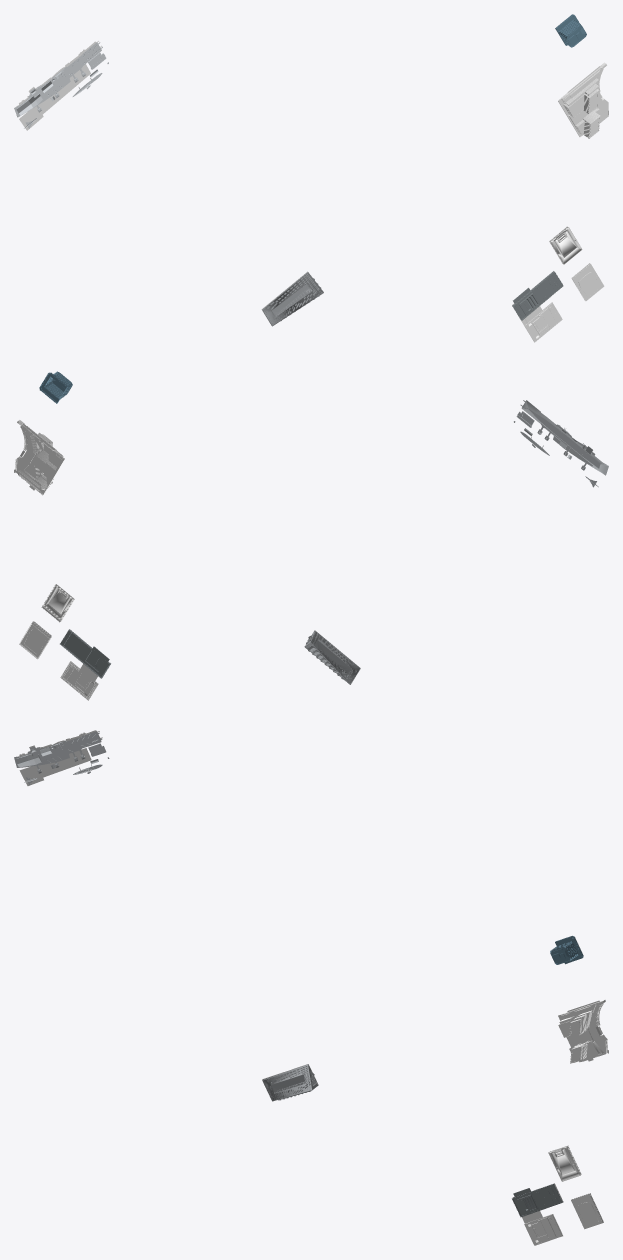
The model's file is 3dbuildings-14-4824-6156.glb.
3 views of the same model, one above another, from view 1: azimuth 30°, elevation 25°; view 2: azimuth 150°, elevation 25°; view 3: azimuth 330°, elevation 25° (orthographic).
Bounding box in the file's own units: 7459 × 4898 × 220.
